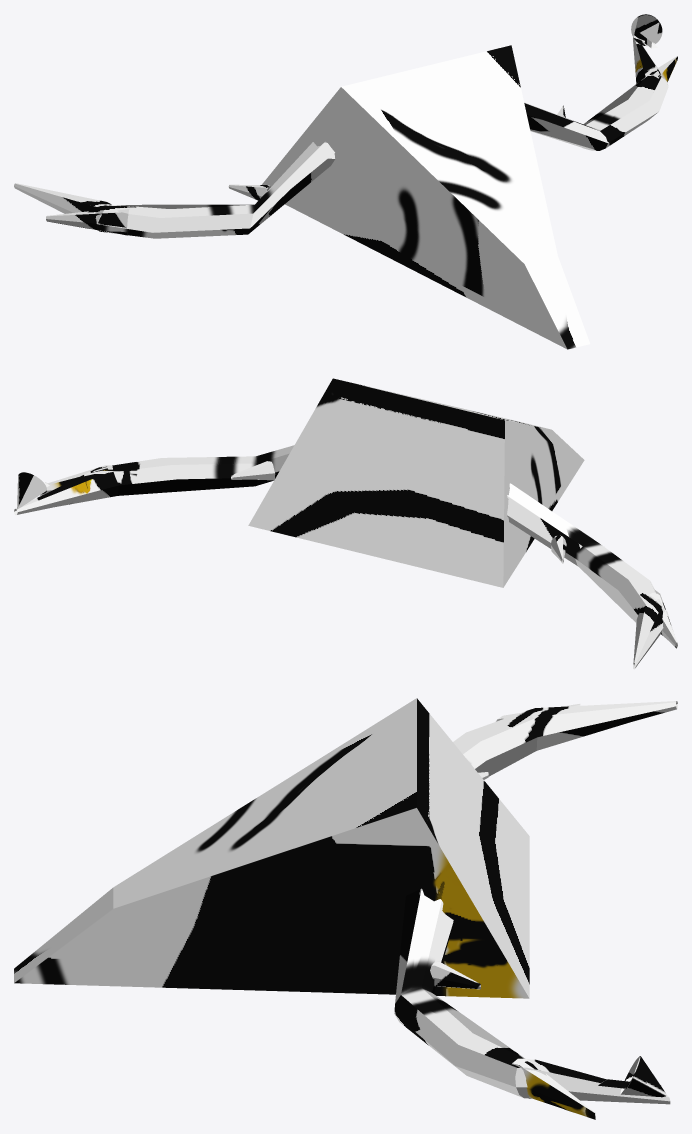
The model's file is cranio4.fbx.
3 renders of one model, top to bottom at view 1: azimuth 30°, elevation 25°; view 2: azimuth 150°, elevation 25°; view 3: azimuth 270°, elevation 25°, orthographic. The views are drawn at different scales.
Parts seen in each view (by area): view 1: Cube; view 2: Cube; view 3: Cube.
Part boxes in pixels (x1,y1,x2,y2): Cube: [14, 14, 677, 349]; Cube: [14, 378, 677, 669]; Cube: [14, 698, 677, 1119].
Bounding box in the file's own units: 6205 × 1572 × 4241.
